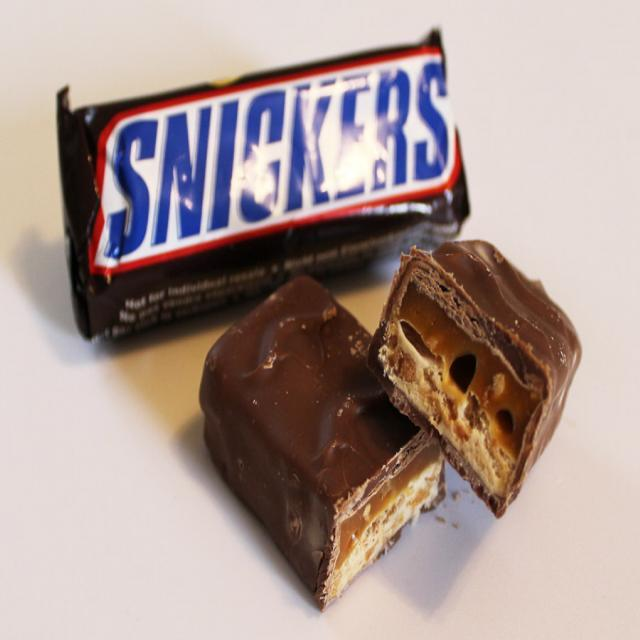Chocolate bar: (56, 29, 474, 327)
Chocolate bar packaged: (196, 278, 454, 618), (373, 235, 581, 525)
